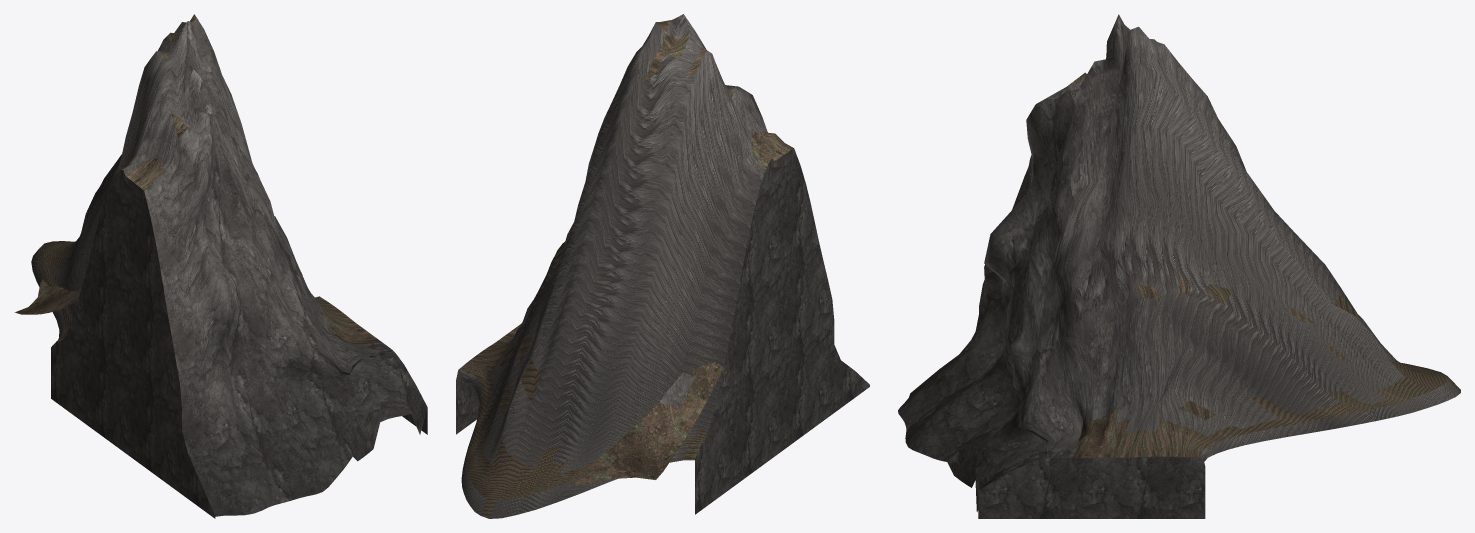
Rendered from seacliff_endcap_right_h5_a_v5_autumn.glb.
3 views of the same model, side by side, from view 1: azimuth 30°, elevation 25°; view 2: azimuth 150°, elevation 25°; view 3: azimuth 270°, elevation 25° (orthographic). The views are drawn at different scales.
Visible parts, largest first — view 1: seacliff_endcap_right_h5_a; view 2: seacliff_endcap_right_h5_a; view 3: seacliff_endcap_right_h5_a.
Part boxes in pixels (left/top/right/bottom): seacliff_endcap_right_h5_a: left=14, top=14, right=427, bottom=518; seacliff_endcap_right_h5_a: left=456, top=14, right=869, bottom=518; seacliff_endcap_right_h5_a: left=898, top=14, right=1460, bottom=518.
Bounding box in the file's own units: 6 × 9.49 × 11.57.
Materials: 2 (2 with a texture image).
